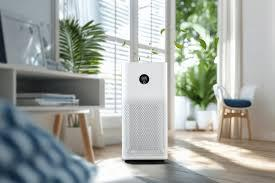Indoor Plant: (172, 0, 217, 129), (58, 20, 102, 73)
air purifier: (121, 62, 171, 161)
chair: (219, 85, 255, 142)
window: (56, 0, 168, 114)
